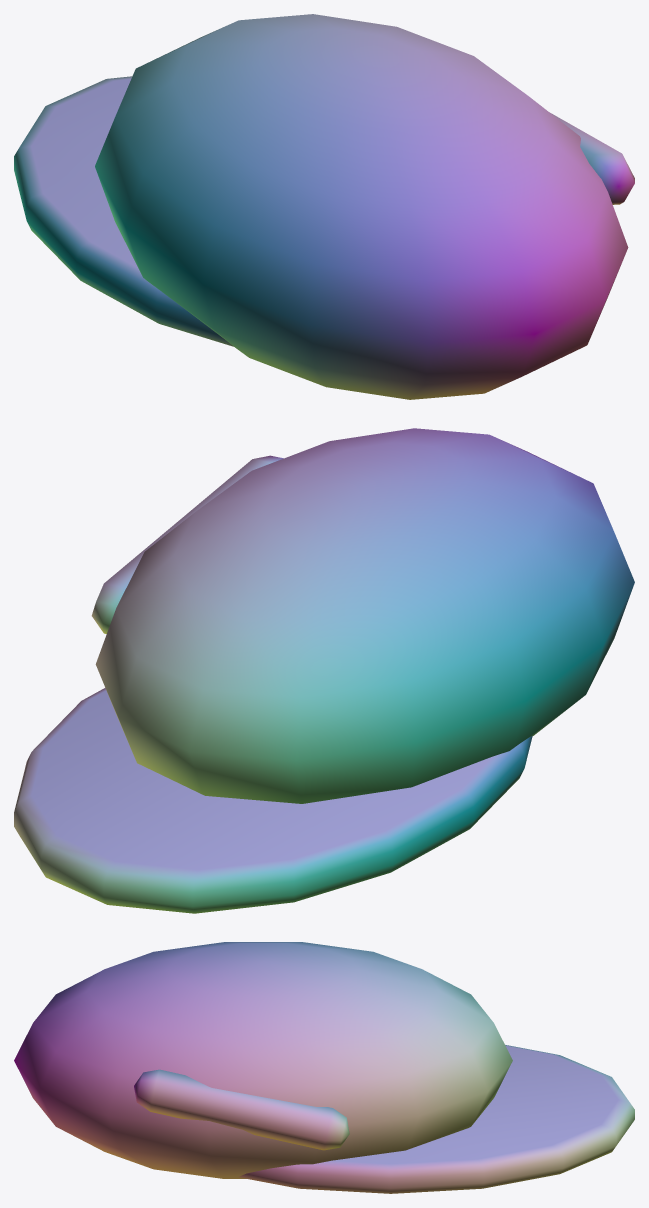
The model's file is acc_shoe_R.glb.
3 views of the same model, one above another, from view 1: azimuth 30°, elevation 25°; view 2: azimuth 150°, elevation 25°; view 3: azimuth 270°, elevation 25° (orthographic). The views are drawn at different scales.
Parts seen in each view (by area): view 1: shoe_R; view 2: shoe_R; view 3: shoe_R.
Boxes of the visible parts, <box> form: shoe_R: <box>14,14,634,399</box>; shoe_R: <box>14,428,634,913</box>; shoe_R: <box>14,942,634,1193</box>.
Size of the model in its own units: 0.0641 by 0.04 by 0.1145.
